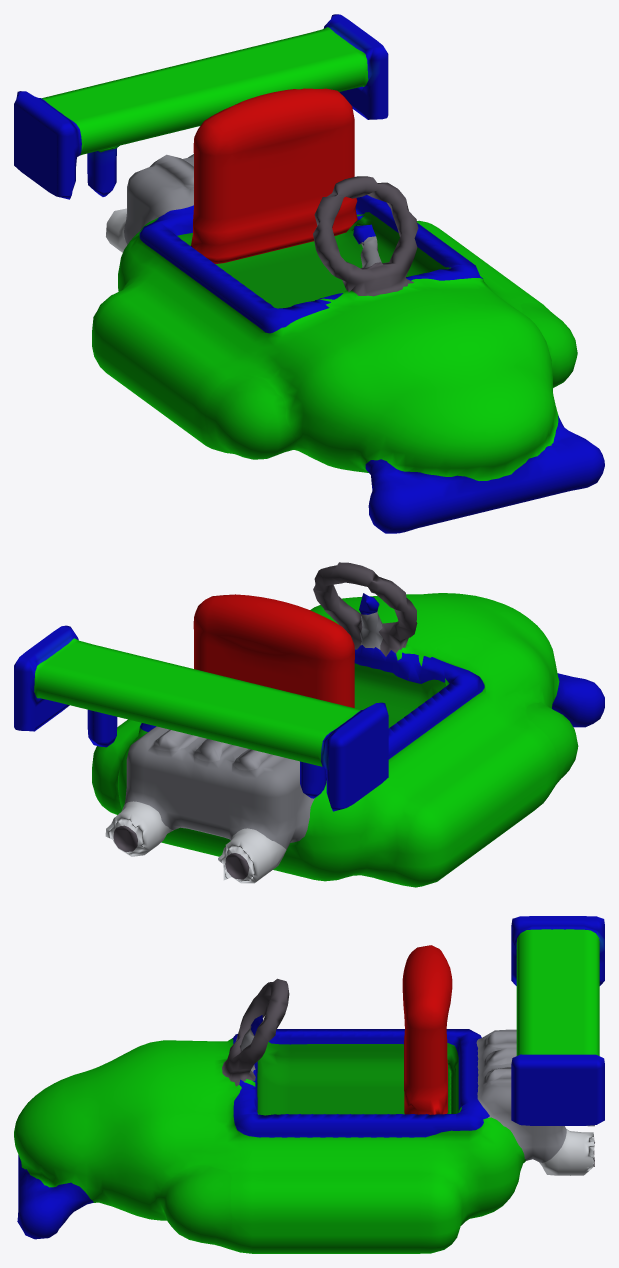
File: body_racer.glb
3 views of the same model, one above another, from view 1: azimuth 30°, elevation 25°; view 2: azimuth 150°, elevation 25°; view 3: azimuth 270°, elevation 25° (orthographic). The views are drawn at different scales.
Parts seen in each view (by area): view 1: body_racer; view 2: body_racer; view 3: body_racer.
Boxes of the visible parts, left/top/right/bottom form: body_racer: left=14, top=14, right=604, bottom=533; body_racer: left=14, top=562, right=604, bottom=887; body_racer: left=14, top=916, right=604, bottom=1253.
Size of the model in its own units: 28.45 by 19.82 by 45.49.
